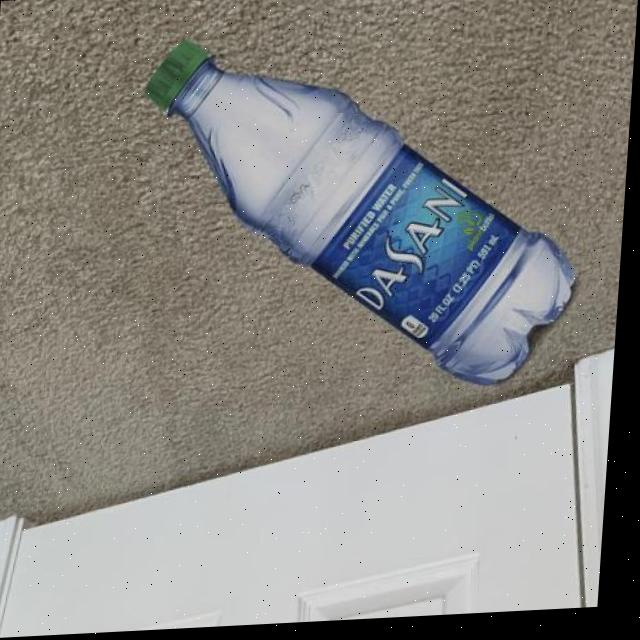bottle: (130, 23, 594, 407)
